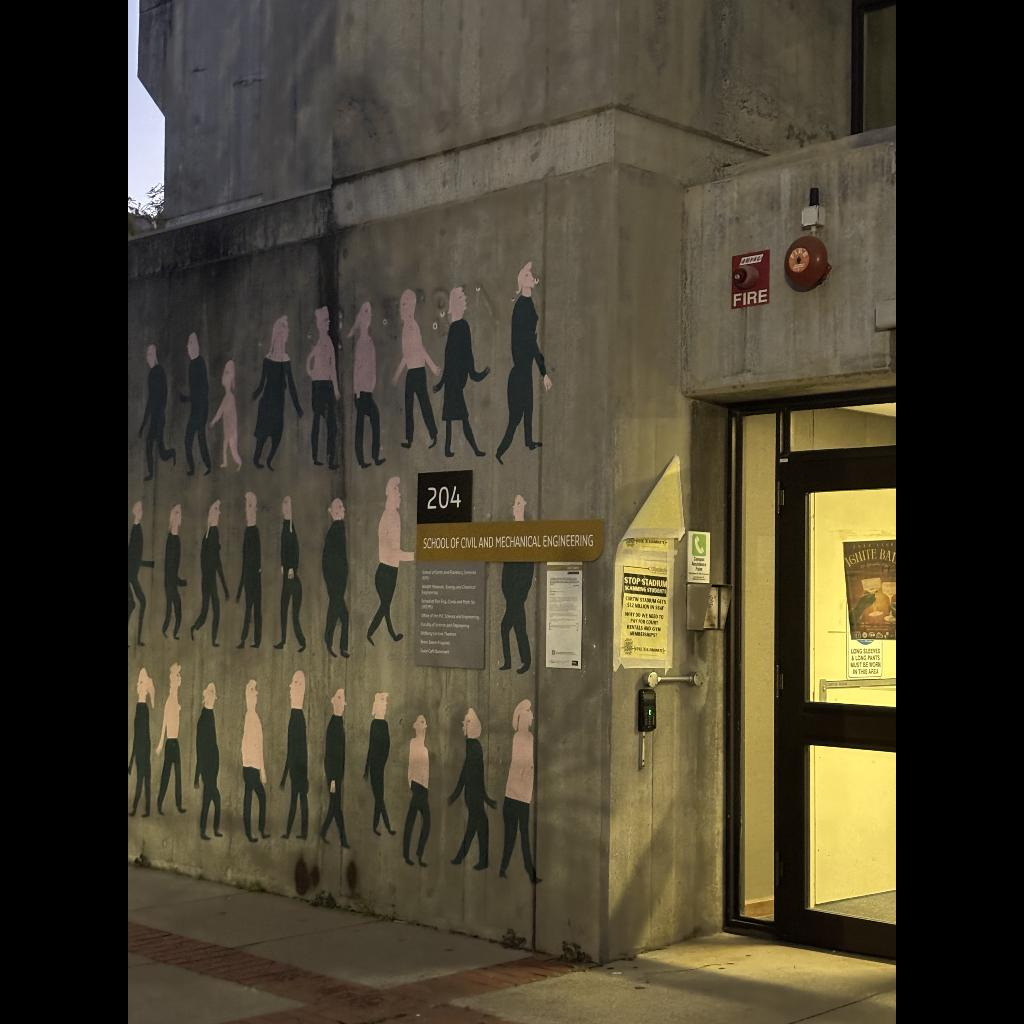BuildingCodes: (423, 484, 467, 512)
